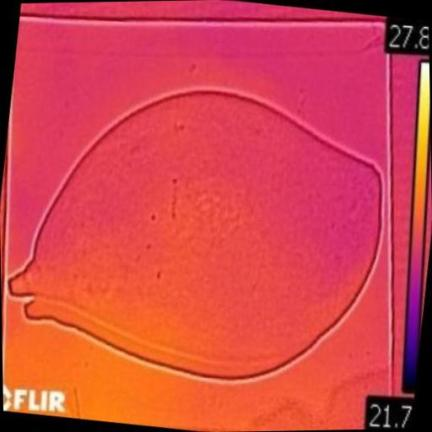mango: (10, 90, 381, 378)
